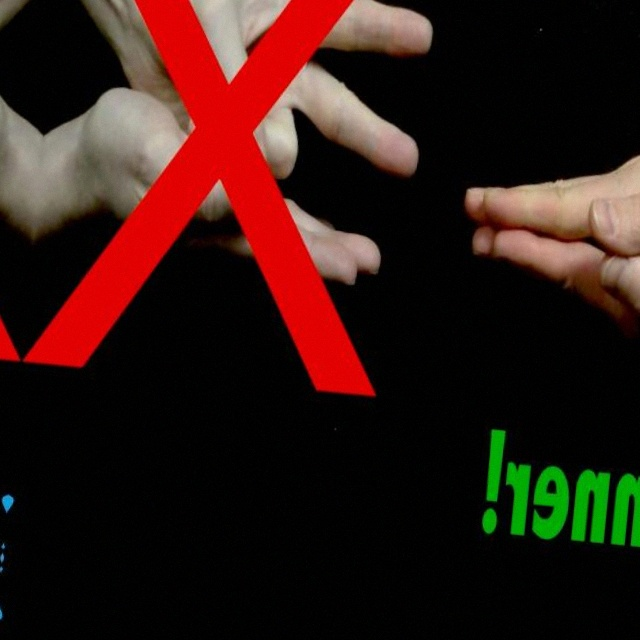Paper: (462, 102, 640, 263)
Scissors: (105, 0, 438, 192)
